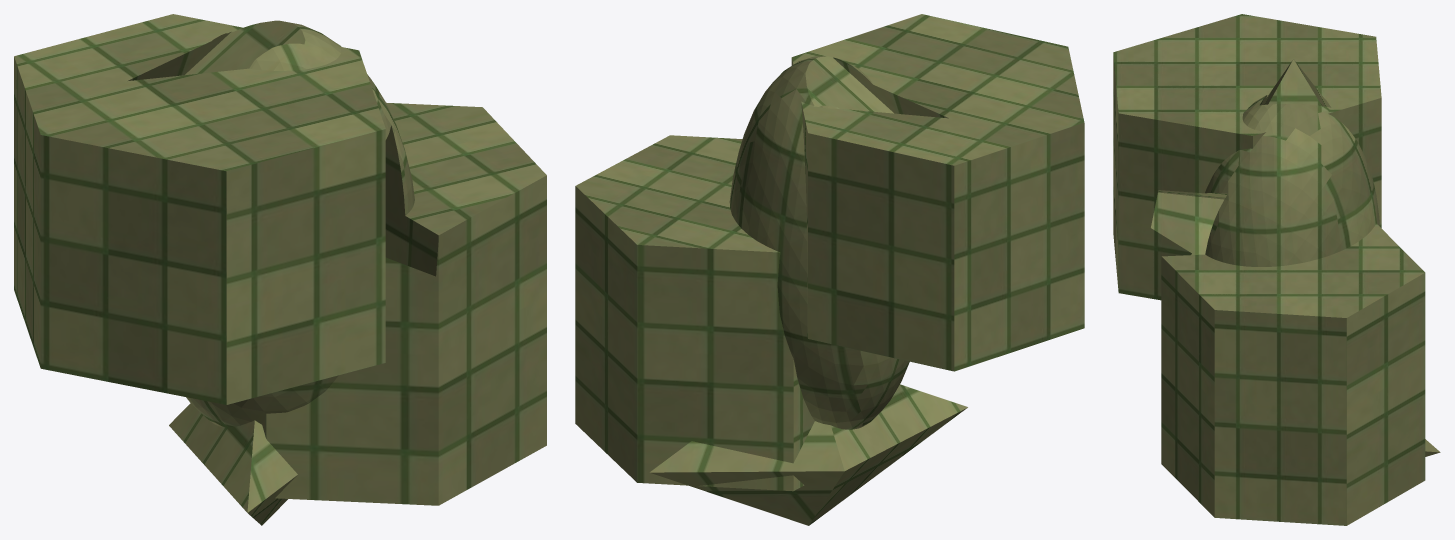
3 views of the same model, side by side, from view 1: azimuth 30°, elevation 25°; view 2: azimuth 150°, elevation 25°; view 3: azimuth 270°, elevation 25° (orthographic). The views are drawn at different scales.
Visible parts, largest first — view 1: geometry_0; view 2: geometry_0; view 3: geometry_0.
Part boxes in pixels (x1,y1,x2,y2): geometry_0: [14, 14, 546, 525]; geometry_0: [575, 14, 1084, 525]; geometry_0: [1113, 14, 1440, 525].
Bounding box in the file's own units: 1.66 × 1.59 × 1.2.
Materials: 1 (1 with a texture image).
